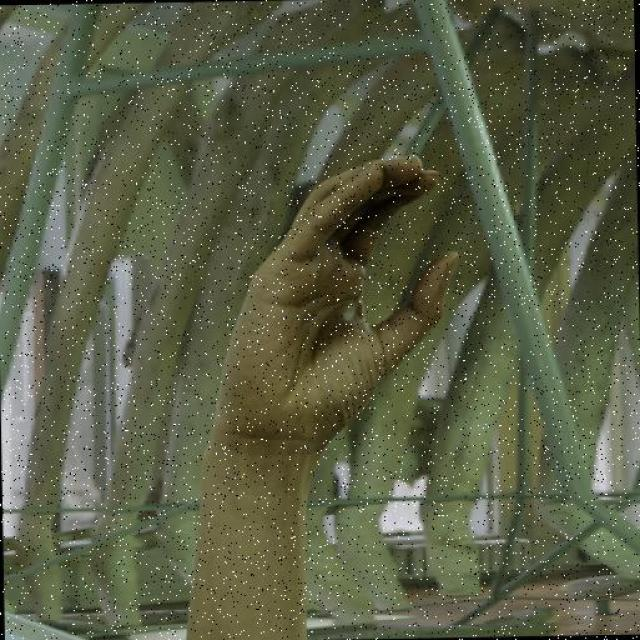C: (208, 129, 486, 509)
